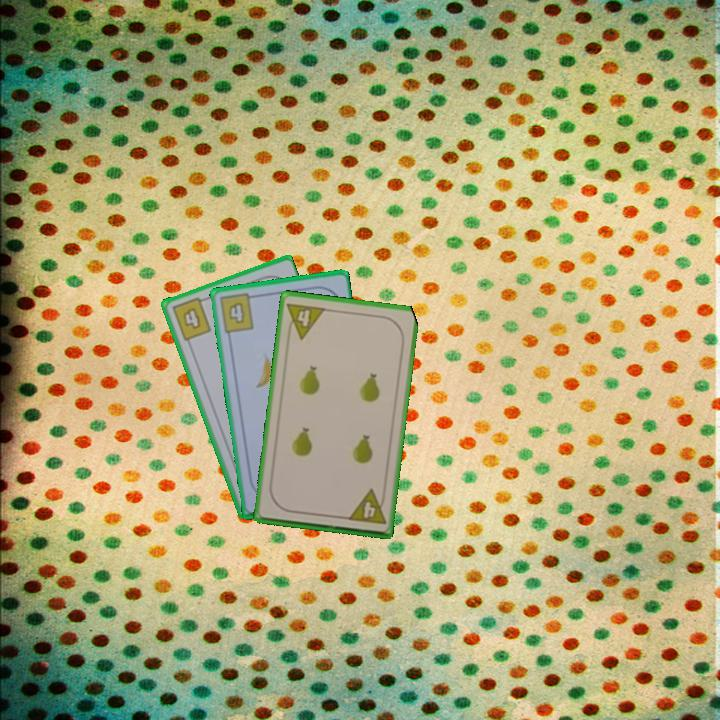4b: (168, 293, 214, 344), (215, 290, 259, 336)
4p: (283, 299, 328, 342), (344, 486, 389, 527)
